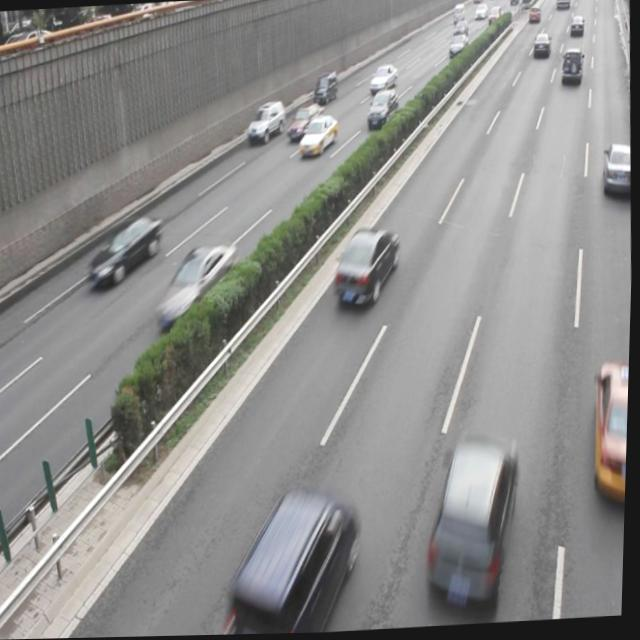car: (424, 432, 521, 594), (154, 243, 241, 330), (589, 360, 631, 511), (86, 213, 164, 289), (332, 226, 401, 311), (600, 142, 633, 201), (297, 114, 339, 158), (246, 99, 287, 143), (286, 104, 324, 142), (365, 89, 398, 130)
truck: (229, 487, 362, 636), (311, 72, 337, 107)
